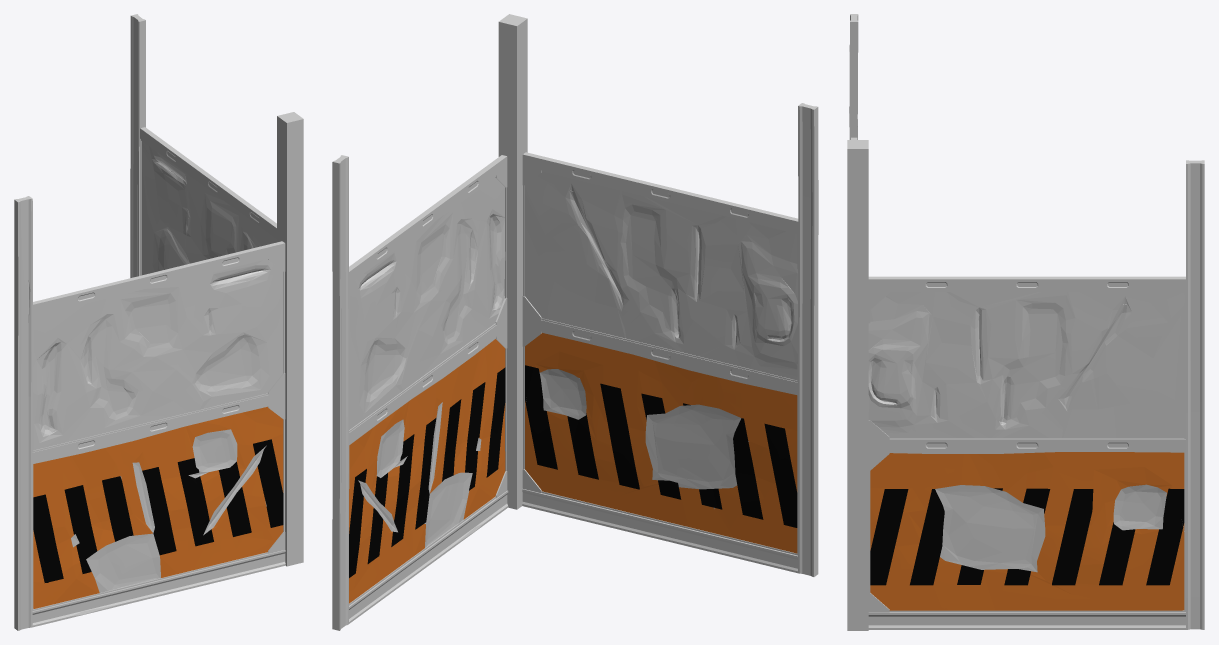
The model's file is SM_Wall_Angle_Broken_05.glb.
3 renders of one model, left to right at view 1: azimuth 30°, elevation 25°; view 2: azimuth 150°, elevation 25°; view 3: azimuth 270°, elevation 25°, orthographic. The views are drawn at different scales.
Visible parts, largest first — view 1: SM_Wall_Angle_Broken_05; view 2: SM_Wall_Angle_Broken_05; view 3: SM_Wall_Angle_Broken_05.
Part boxes in pixels (box(x1,y1,x2,y2)): SM_Wall_Angle_Broken_05: box(14, 14, 303, 630); SM_Wall_Angle_Broken_05: box(332, 14, 818, 630); SM_Wall_Angle_Broken_05: box(847, 14, 1204, 630).
Bounding box in the file's own units: 2.01 × 3 × 2.01.
